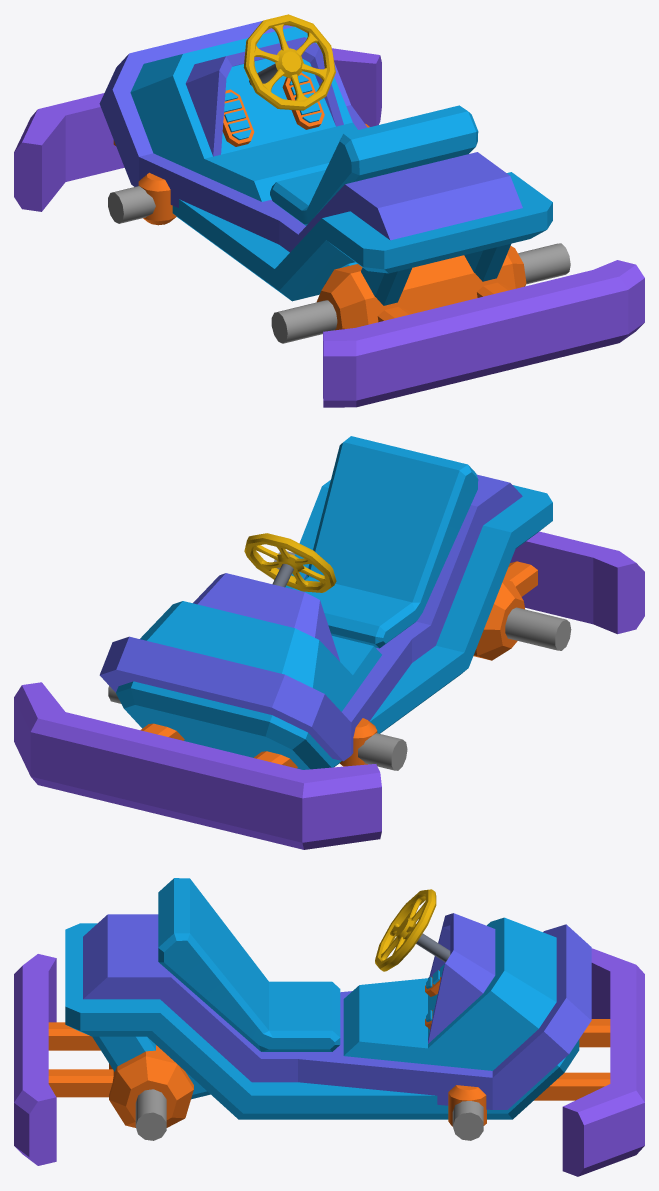
The model's file is SM_Kart_Body.fbx.
3 views of the same model, one above another, from view 1: azimuth 30°, elevation 25°; view 2: azimuth 150°, elevation 25°; view 3: azimuth 270°, elevation 25° (orthographic). The views are drawn at different scales.
Parts seen in each view (by area): view 1: SM_Kart_Body; view 2: SM_Kart_Body; view 3: SM_Kart_Body.
Part boxes in pixels (x1,y1,x2,y2): SM_Kart_Body: [14, 14, 644, 407]; SM_Kart_Body: [14, 436, 644, 849]; SM_Kart_Body: [14, 878, 644, 1176].
Bounding box in the file's own units: 2.6 × 1.42 × 3.99.
